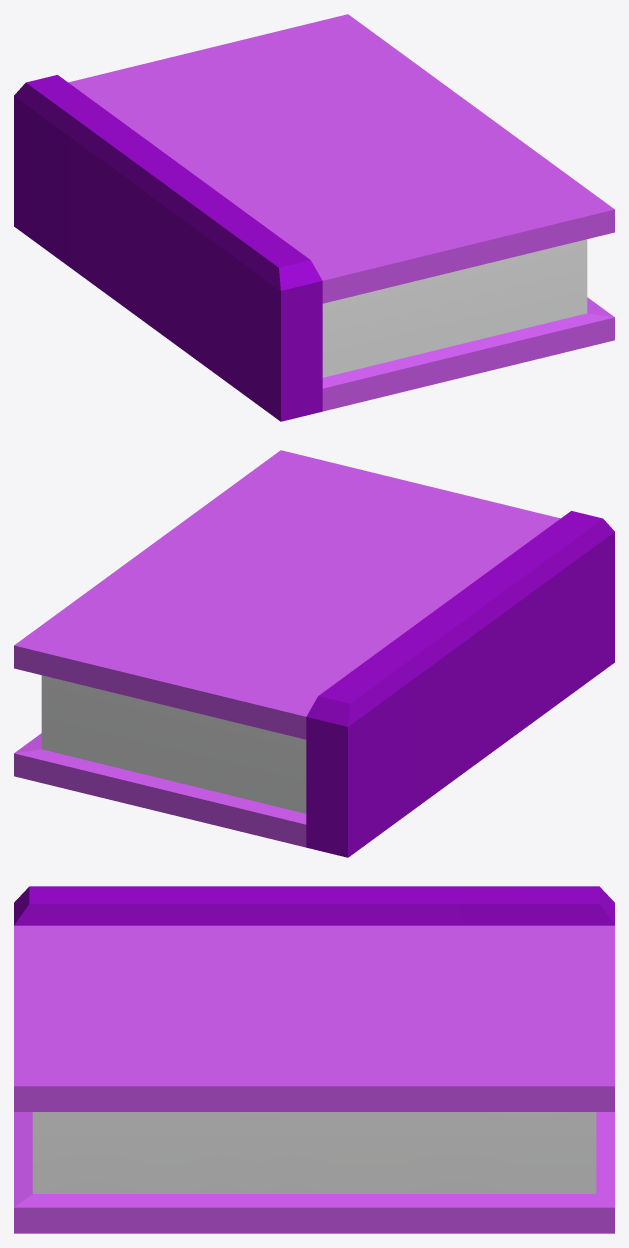
The model's file is LivroRoxo.fbx.
3 views of the same model, one above another, from view 1: azimuth 30°, elevation 25°; view 2: azimuth 150°, elevation 25°; view 3: azimuth 270°, elevation 25° (orthographic). The views are drawn at different scales.
Visible parts, largest first — view 1: LivroRoxo; view 2: LivroRoxo; view 3: LivroRoxo.
Boxes of the visible parts, box(x1,y1,x2,y2) form: LivroRoxo: box(14, 14, 614, 421); LivroRoxo: box(14, 450, 614, 857); LivroRoxo: box(14, 886, 614, 1233).
Bounding box in the file's own units: 49.87 × 21.07 × 69.
